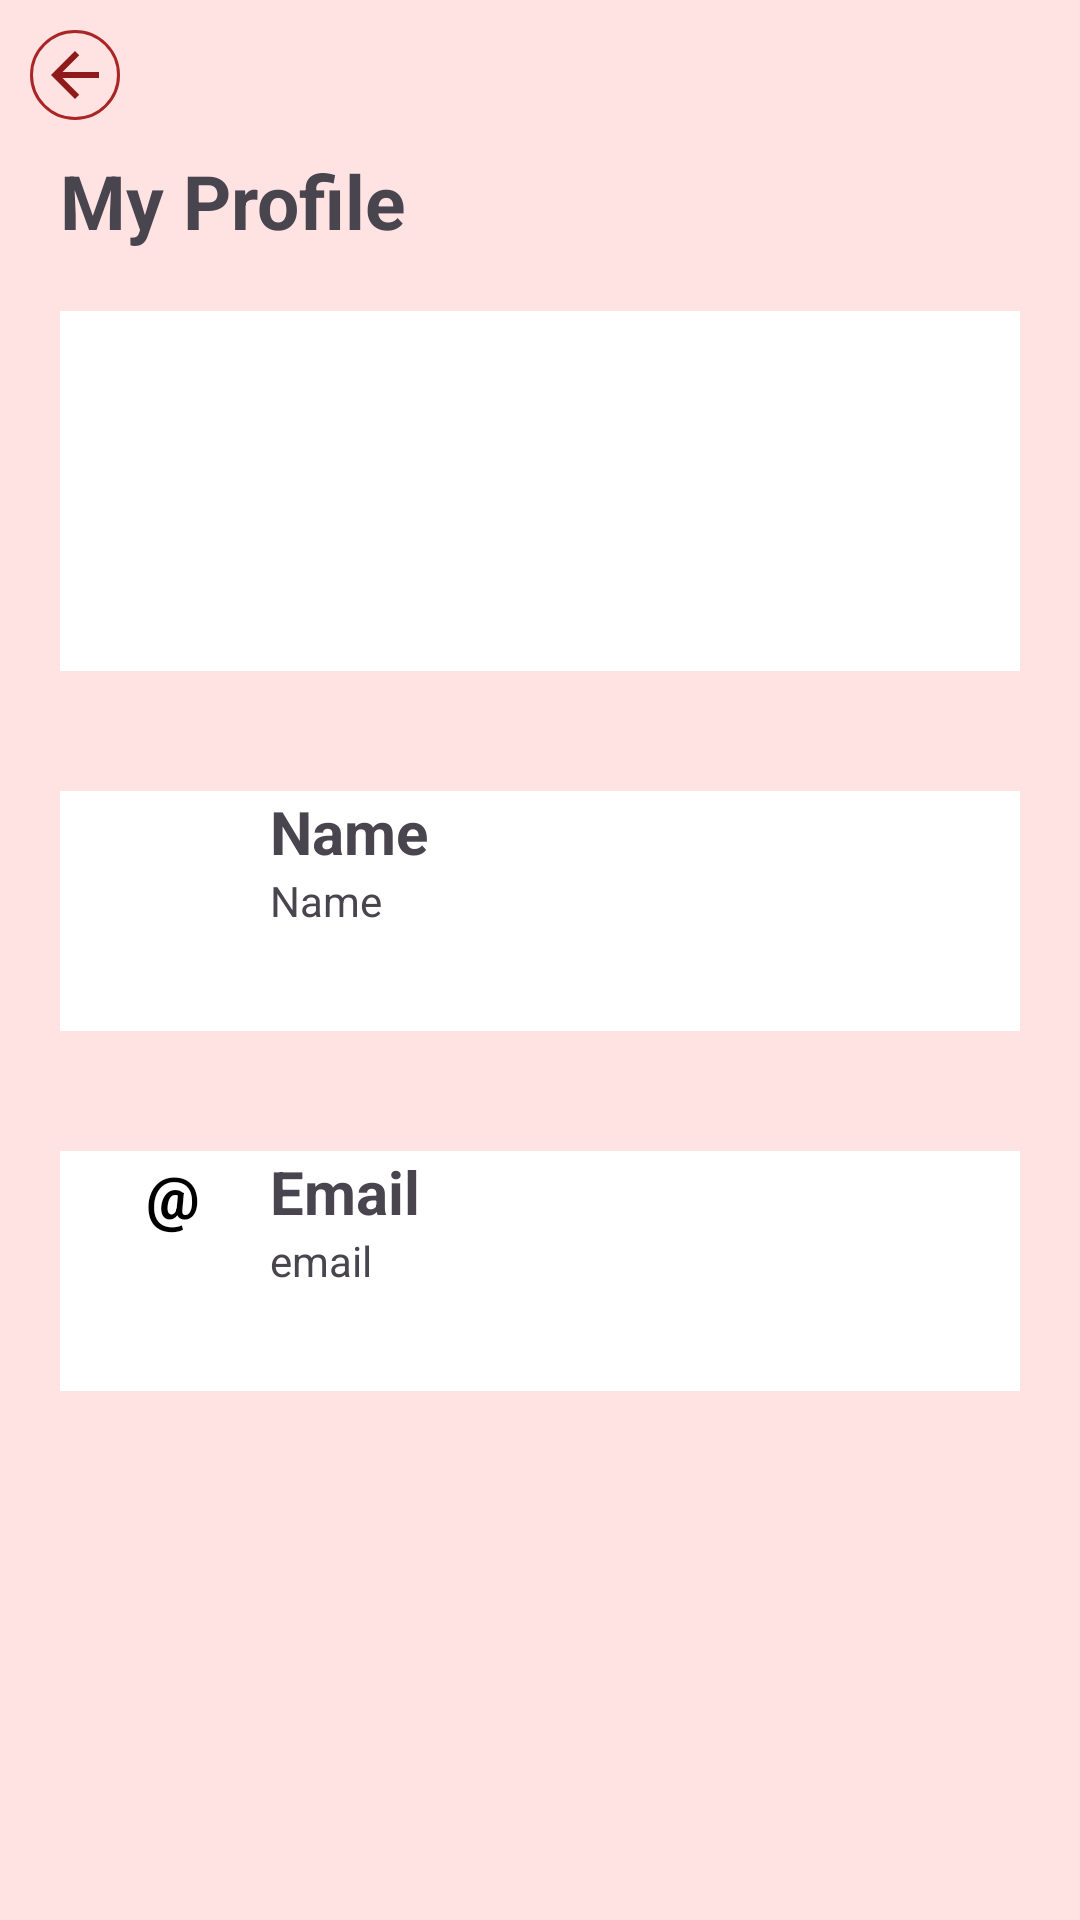

Point at icon controls on the screen. Image size 1080px x 1920px, points as [x,y].
back: [75,75]
